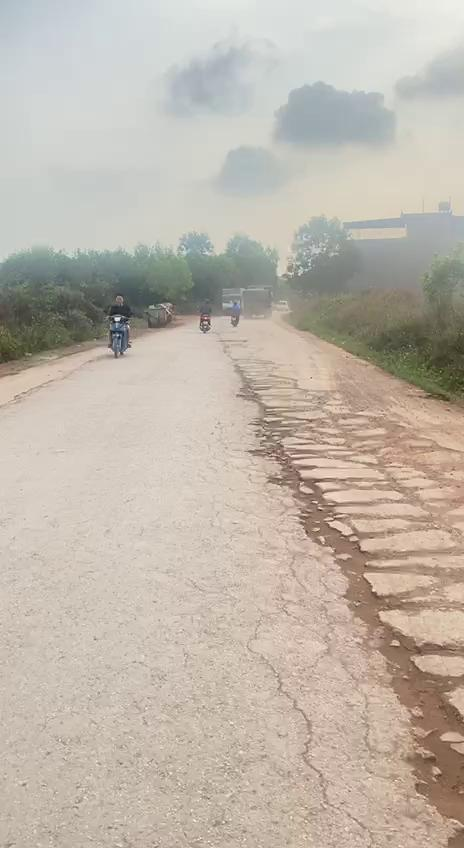pothole: (360, 626, 464, 830), (294, 509, 414, 638), (258, 438, 342, 528), (240, 384, 294, 448)
